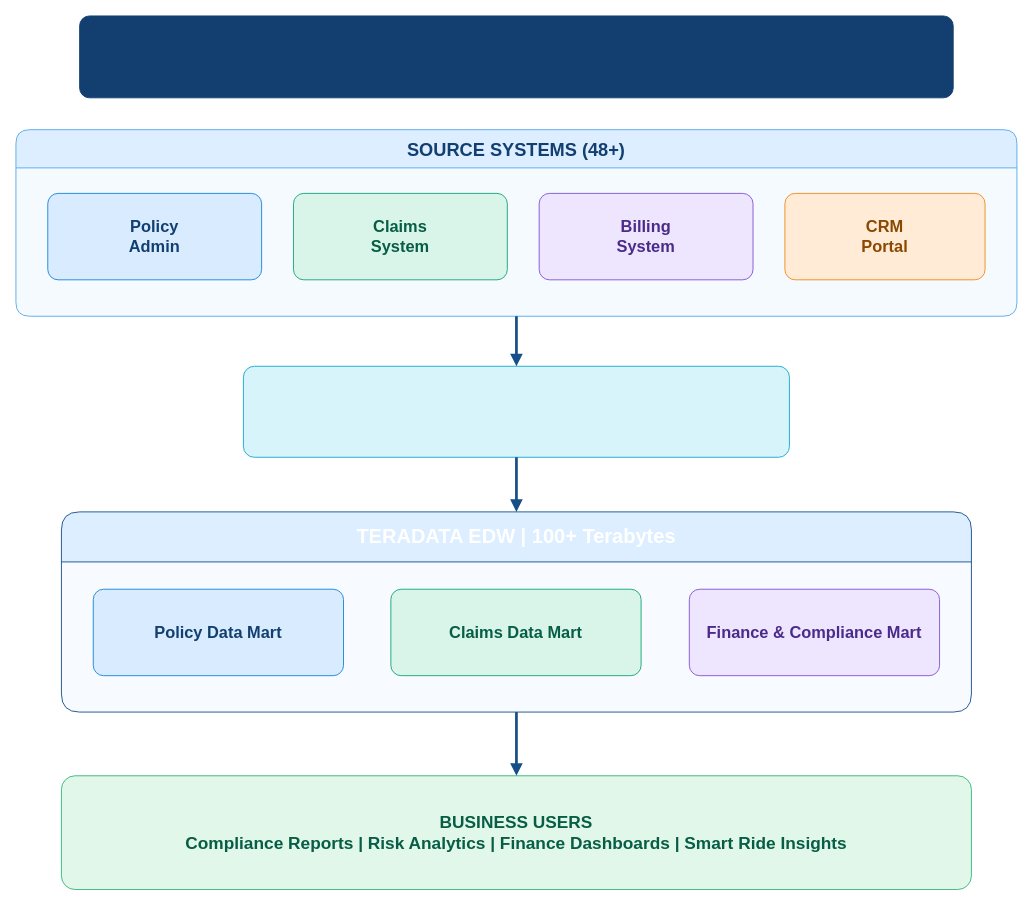
Some shapes in this 1033 by 905 pixel diagram are drawn without their labels. The centre of each missing label's shape, as x and y in pixels:
"ETL LAYER FastLoad • MultiLoad • FastExport" belongs at [516,411].
"NATIONWIDE INSURANCE Enterprise Data Warehouse Architecture" belongs at [516,56].
